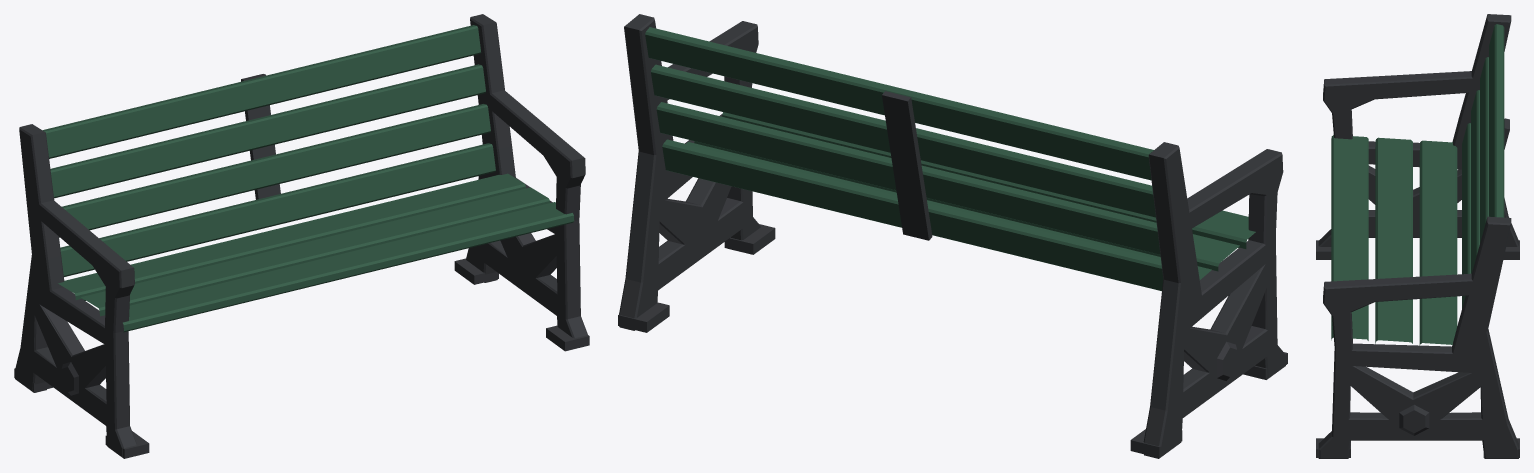
Rendered from park_bench.glb.
3 views of the same model, side by side, from view 1: azimuth 30°, elevation 25°; view 2: azimuth 150°, elevation 25°; view 3: azimuth 270°, elevation 25° (orthographic). The views are drawn at different scales.
Visible parts, largest first — view 1: bench; view 2: bench; view 3: bench.
Part boxes in pixels (x1,y1,x2,y2): bench: (14, 14, 589, 458); bench: (618, 14, 1287, 458); bench: (1316, 14, 1519, 458).
Size of the model in its own units: 1.8 by 0.9353 by 0.7296.
